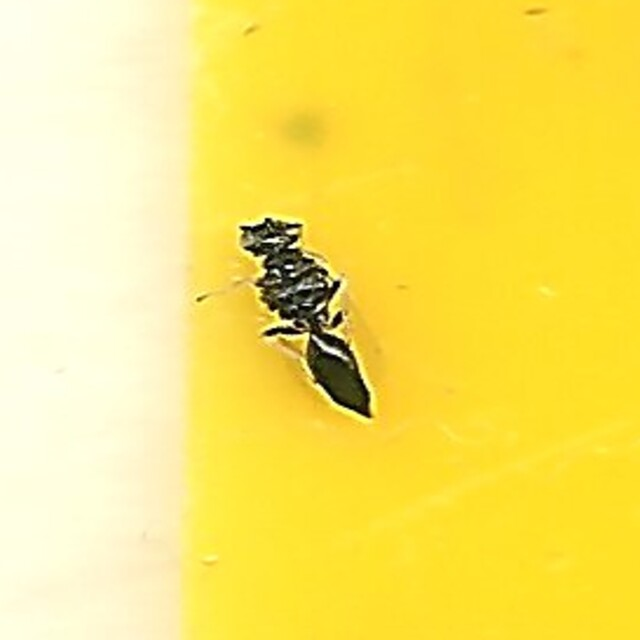Hymenoptera: (234, 204, 406, 436)
